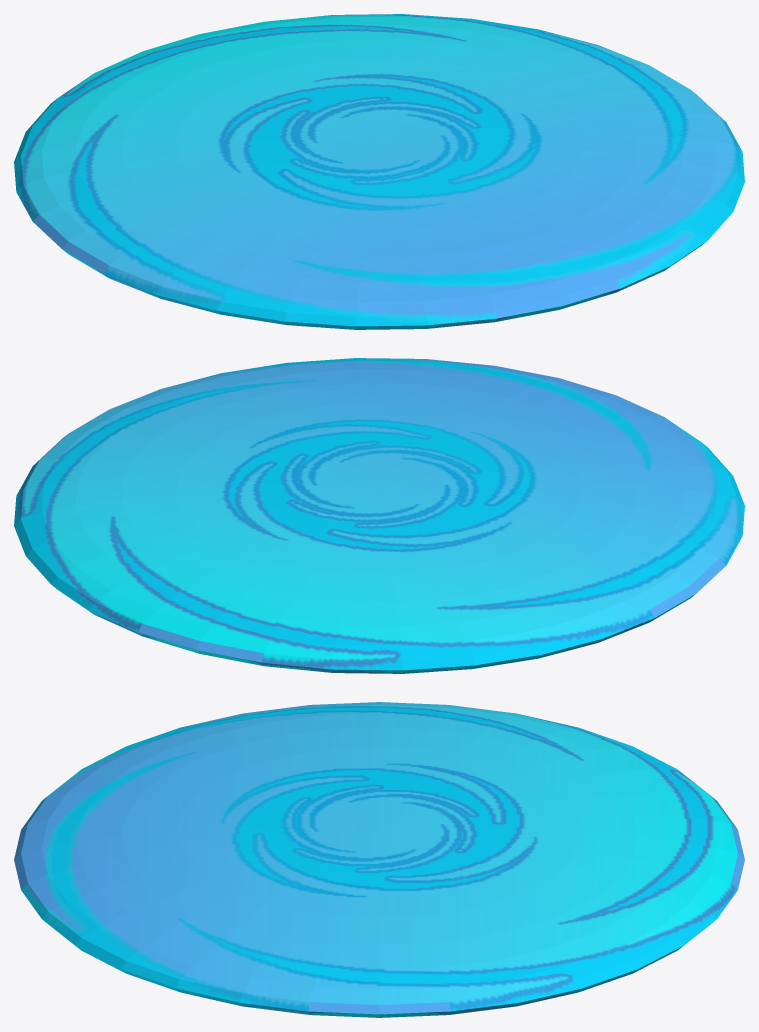
Rendered from beam_slash.obj.
3 renders of one model, top to bottom at view 1: azimuth 30°, elevation 25°; view 2: azimuth 150°, elevation 25°; view 3: azimuth 270°, elevation 25°, orthographic.
Parts seen in each view (by area): view 1: Sphere; view 2: Sphere; view 3: Sphere.
Part boxes in pixels (x1,y1,x2,y2): Sphere: [14, 14, 744, 329]; Sphere: [14, 358, 744, 673]; Sphere: [14, 702, 744, 1017].
Bounding box in the file's own units: 1.6 × 0.16 × 1.6.
